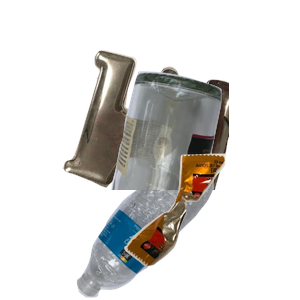glass: (109, 69, 300, 249)
metal: (60, 47, 300, 227)
plastic: (74, 156, 280, 300)
trash: (122, 151, 300, 300)
